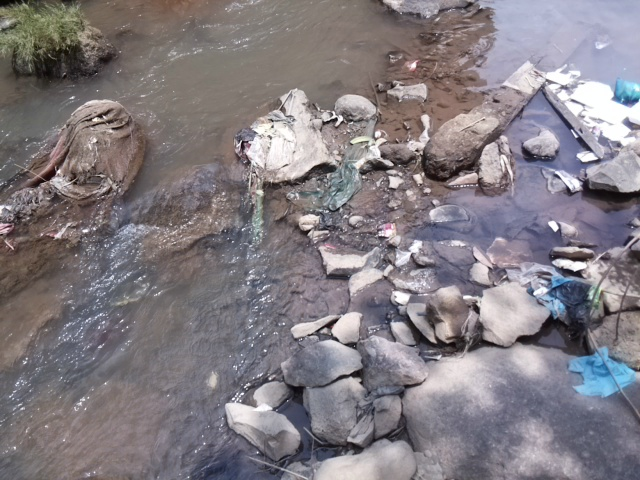Sampah_Plastik: (527, 267, 600, 331), (568, 347, 638, 403), (610, 75, 640, 105), (376, 223, 397, 239)
